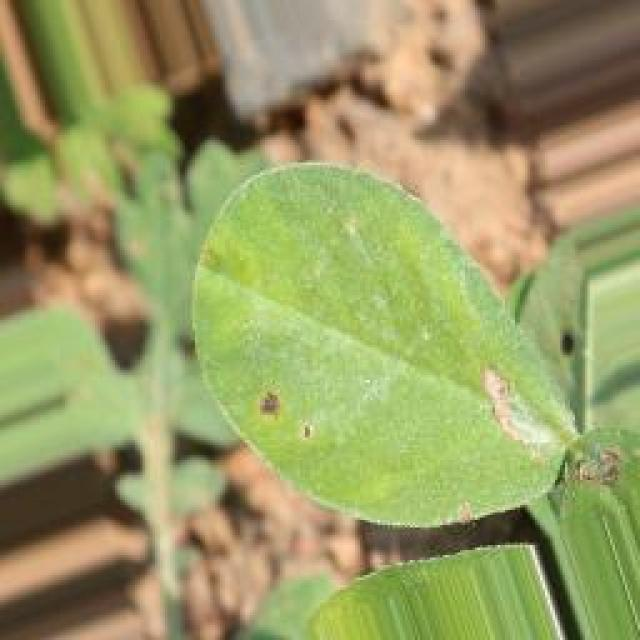Early_leaf_spot: (445, 355, 640, 487), (244, 372, 338, 471)
